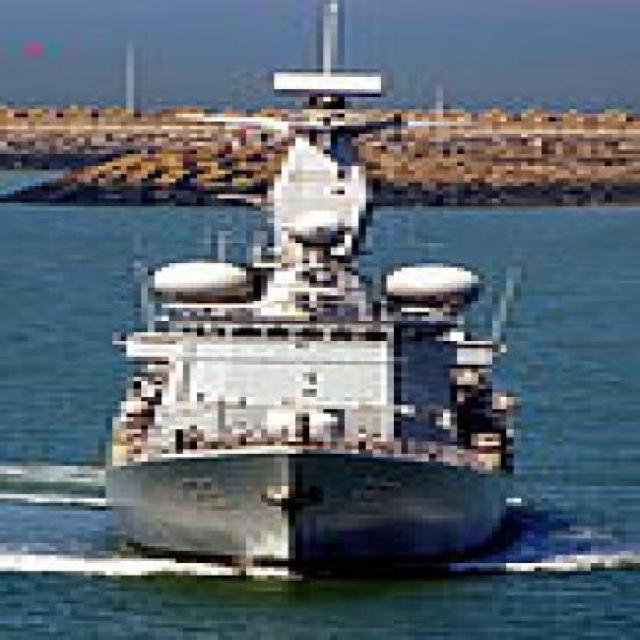warship2: (100, 26, 543, 577)
